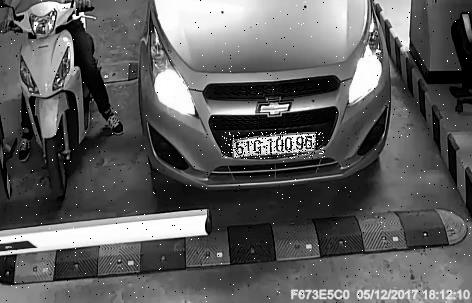License-plate: (223, 133, 327, 160)
